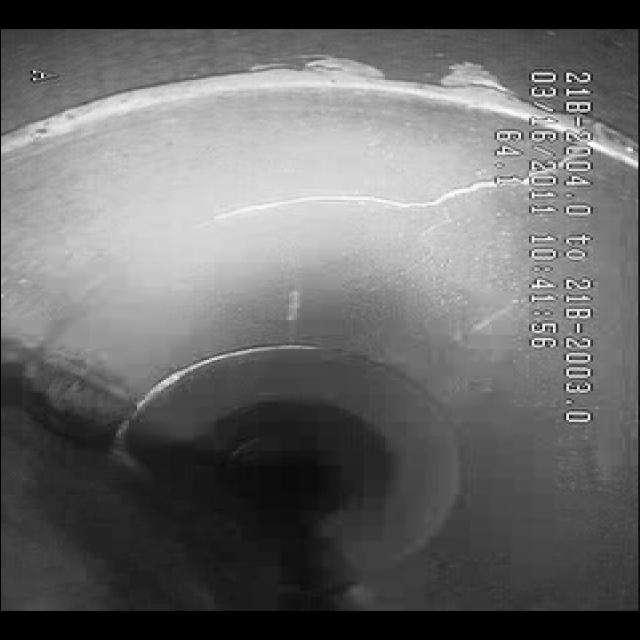Crack: (212, 177, 494, 230)
